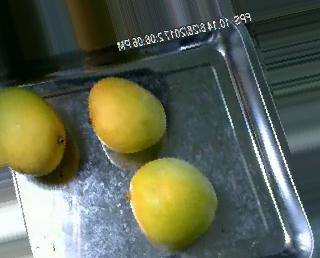Mango: (124, 153, 229, 252), (82, 74, 174, 159), (0, 79, 73, 186)
